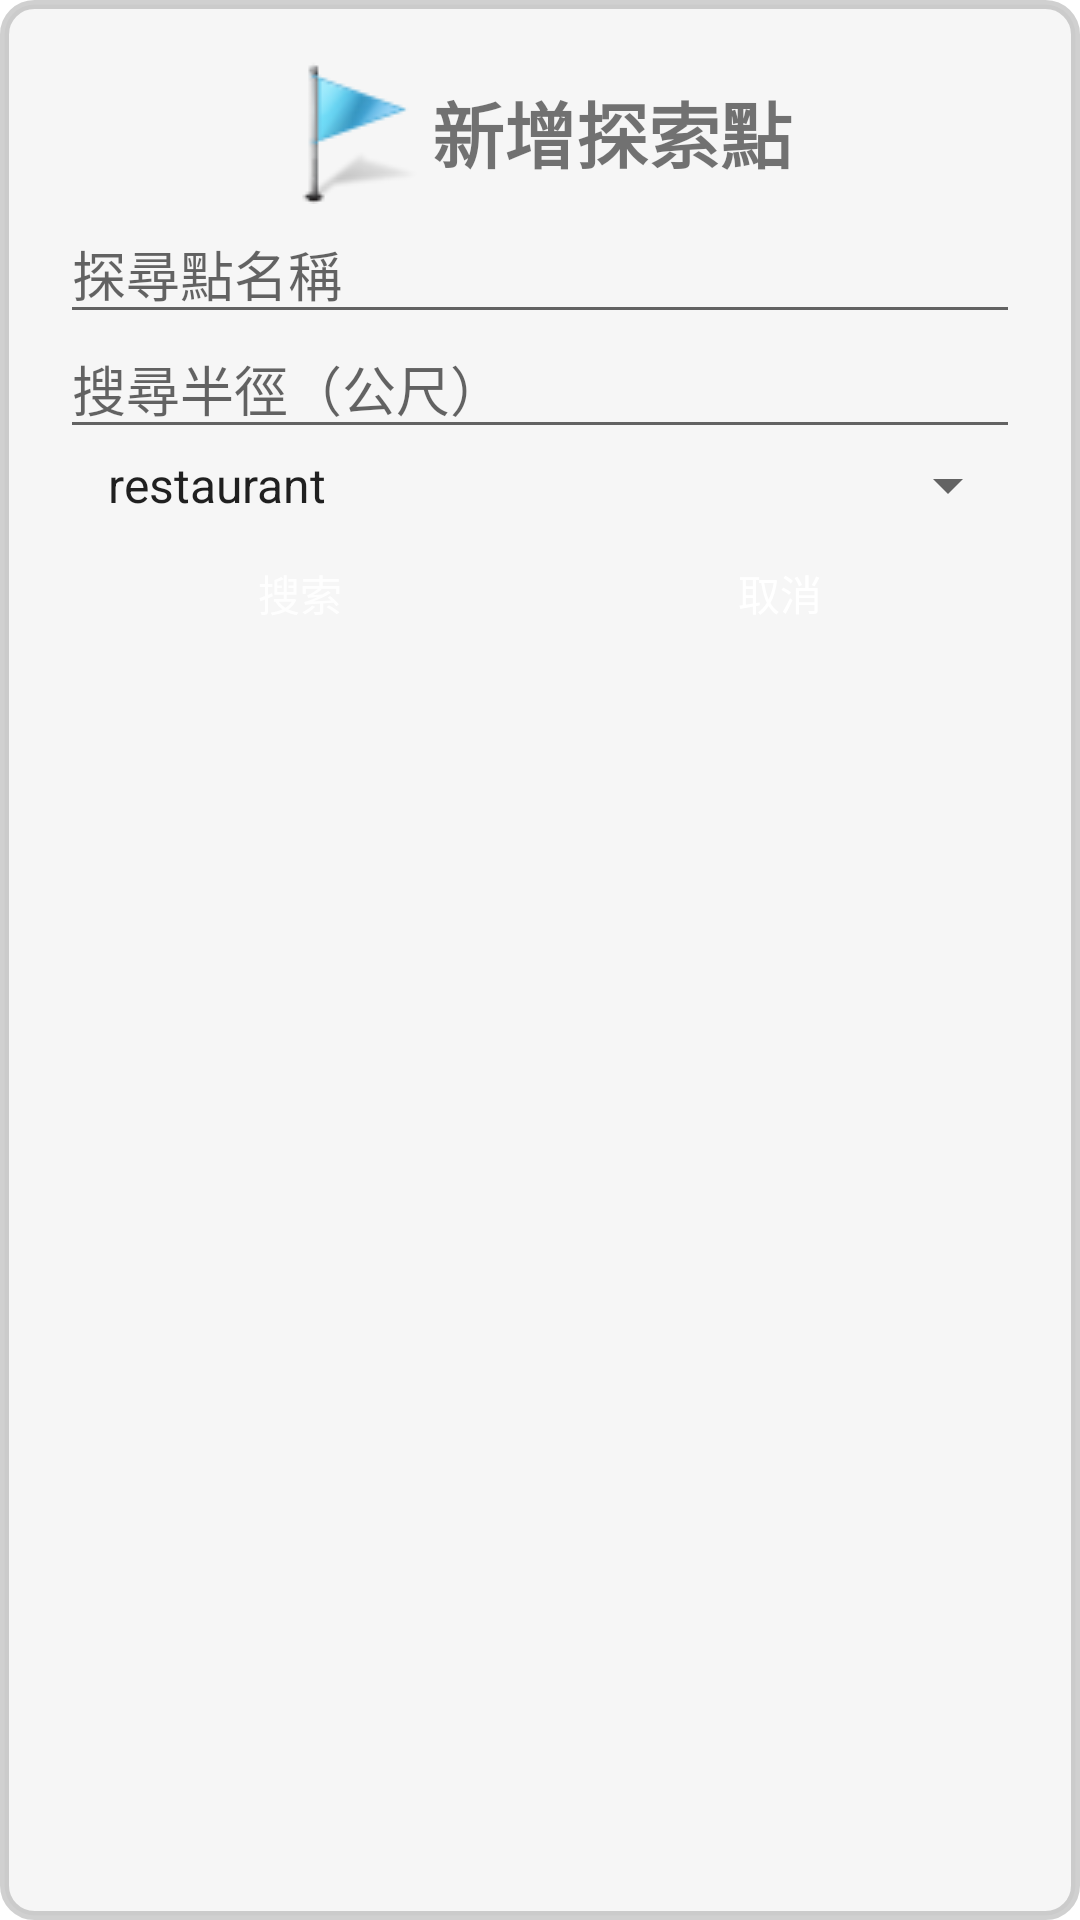

Icons on this 1080 x 1920 Android screen, each with the point to tap as [x,y]:
map flag: [354,133]
